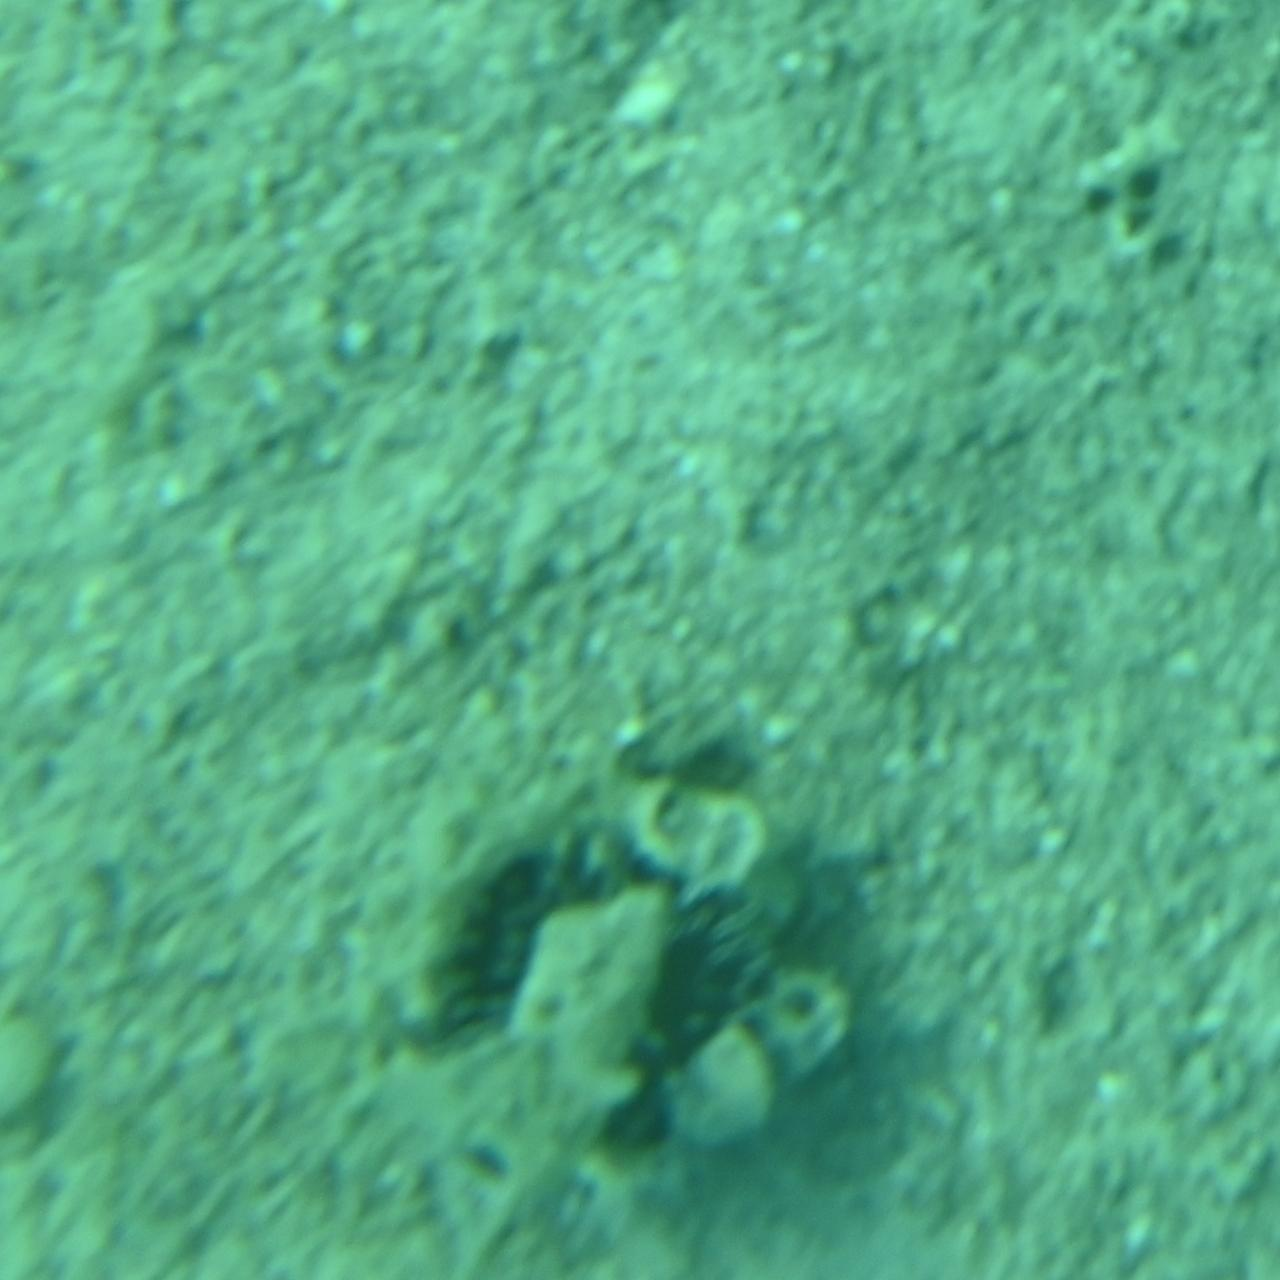Sphaerechinus granularis: (397, 707, 883, 1191)
